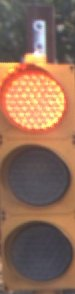Red: (3, 49, 72, 291)
